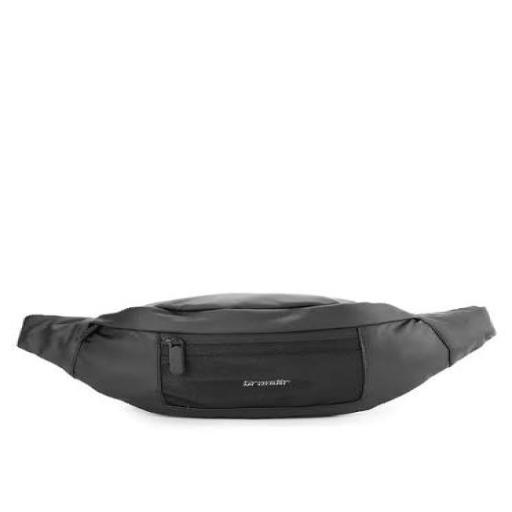tas sandang: (16, 289, 498, 421)
